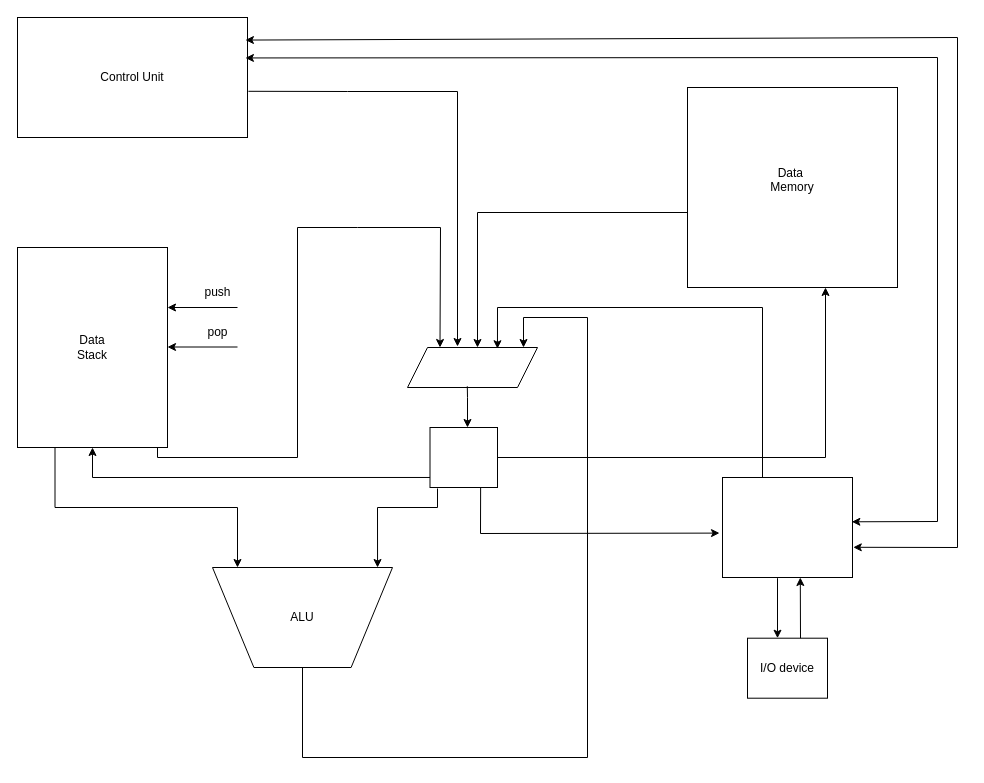
This 984x783 diagram has some shape labels left out. Here are the shapes that lost their labels. From the top down, the box of each, then its label:
(406, 346, 538, 388): MUX
(429, 426, 498, 488): TOS
(722, 476, 852, 578): Port-mapped I/O
